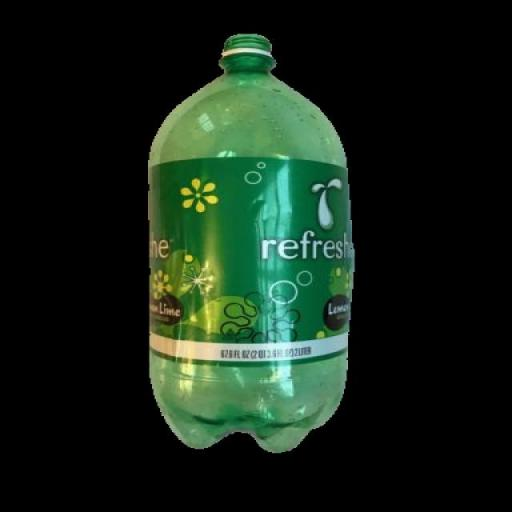plastic: (146, 26, 356, 452)
